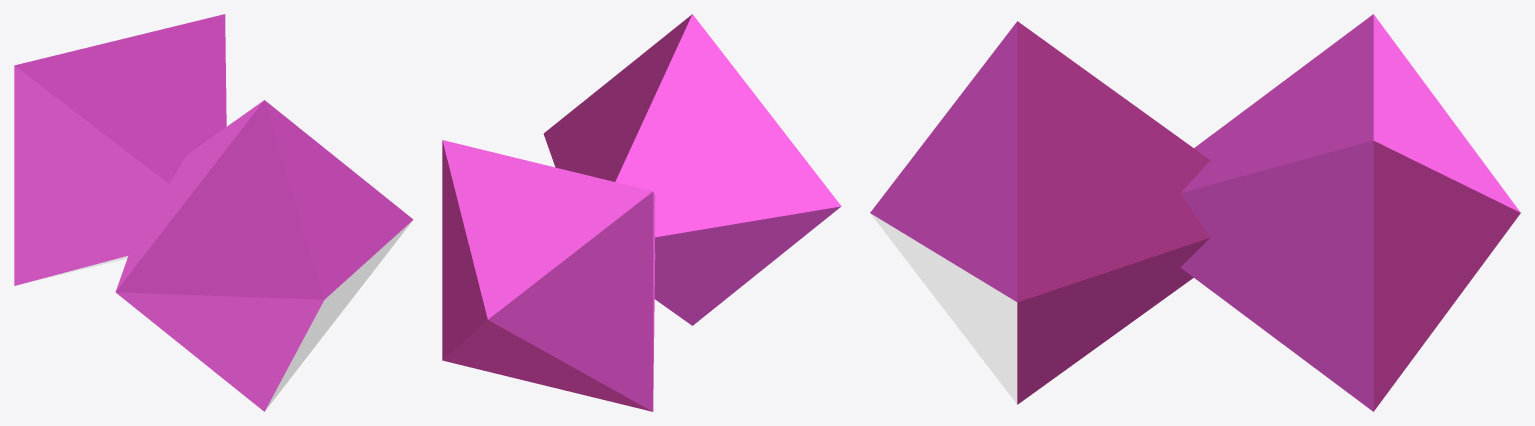
Rendered from refill_gem_double.glb.
3 renders of one model, left to right at view 1: azimuth 30°, elevation 25°; view 2: azimuth 150°, elevation 25°; view 3: azimuth 270°, elevation 25°, orthographic. The views are drawn at different scales.
Parts seen in each view (by area): view 1: DoubleRefill; view 2: DoubleRefill; view 3: DoubleRefill.
Part boxes in pixels (x1,y1,x2,y2): DoubleRefill: (14,14,413,411); DoubleRefill: (442,14,841,411); DoubleRefill: (870,14,1520,411).
Bounding box in the file's own units: 4.77 × 4.77 × 7.34.
1 material, 1 textured.
